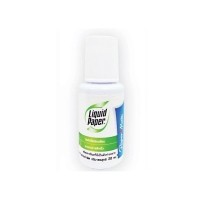Correction_fluid: (75, 32, 128, 170)
